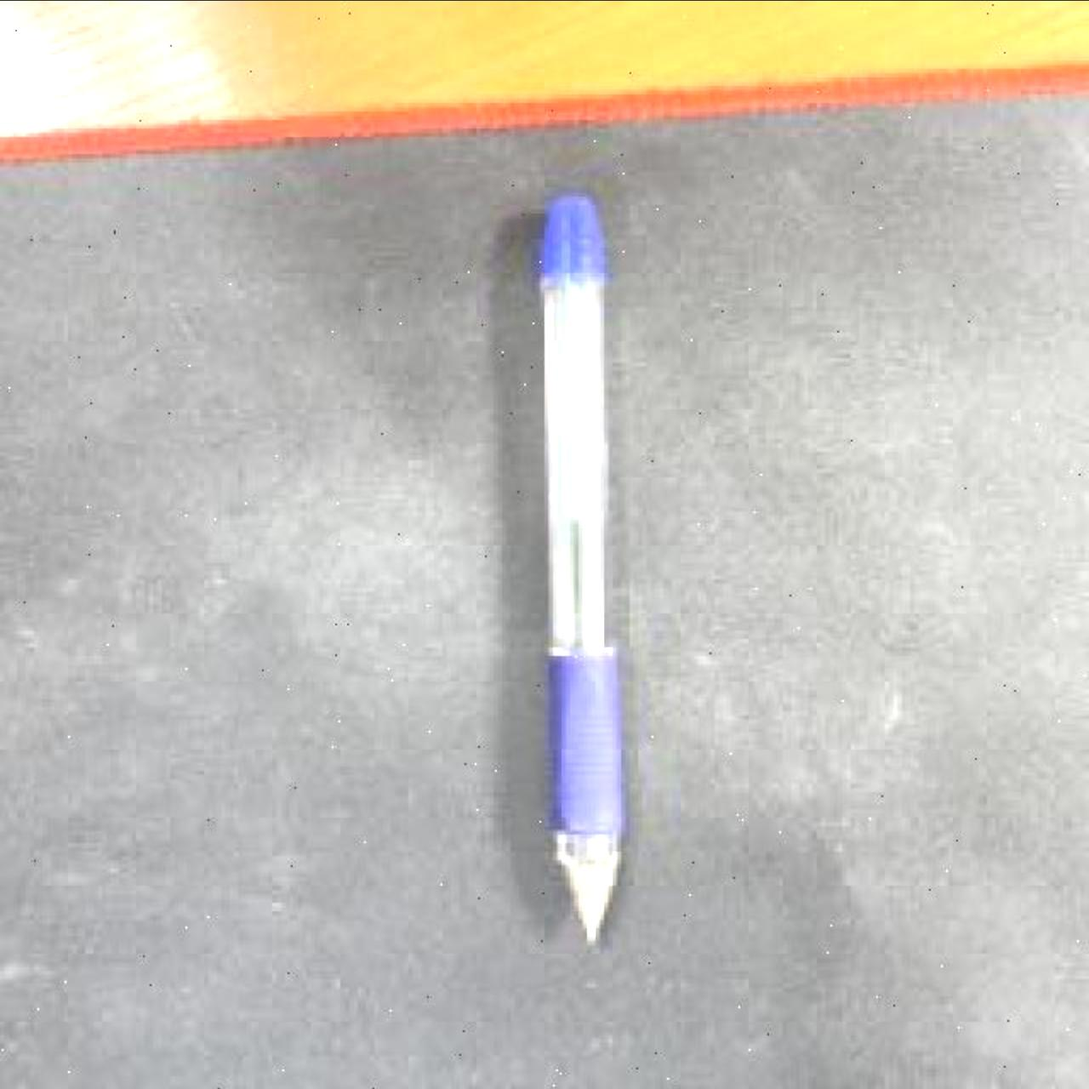pen: (541, 191, 626, 939)
